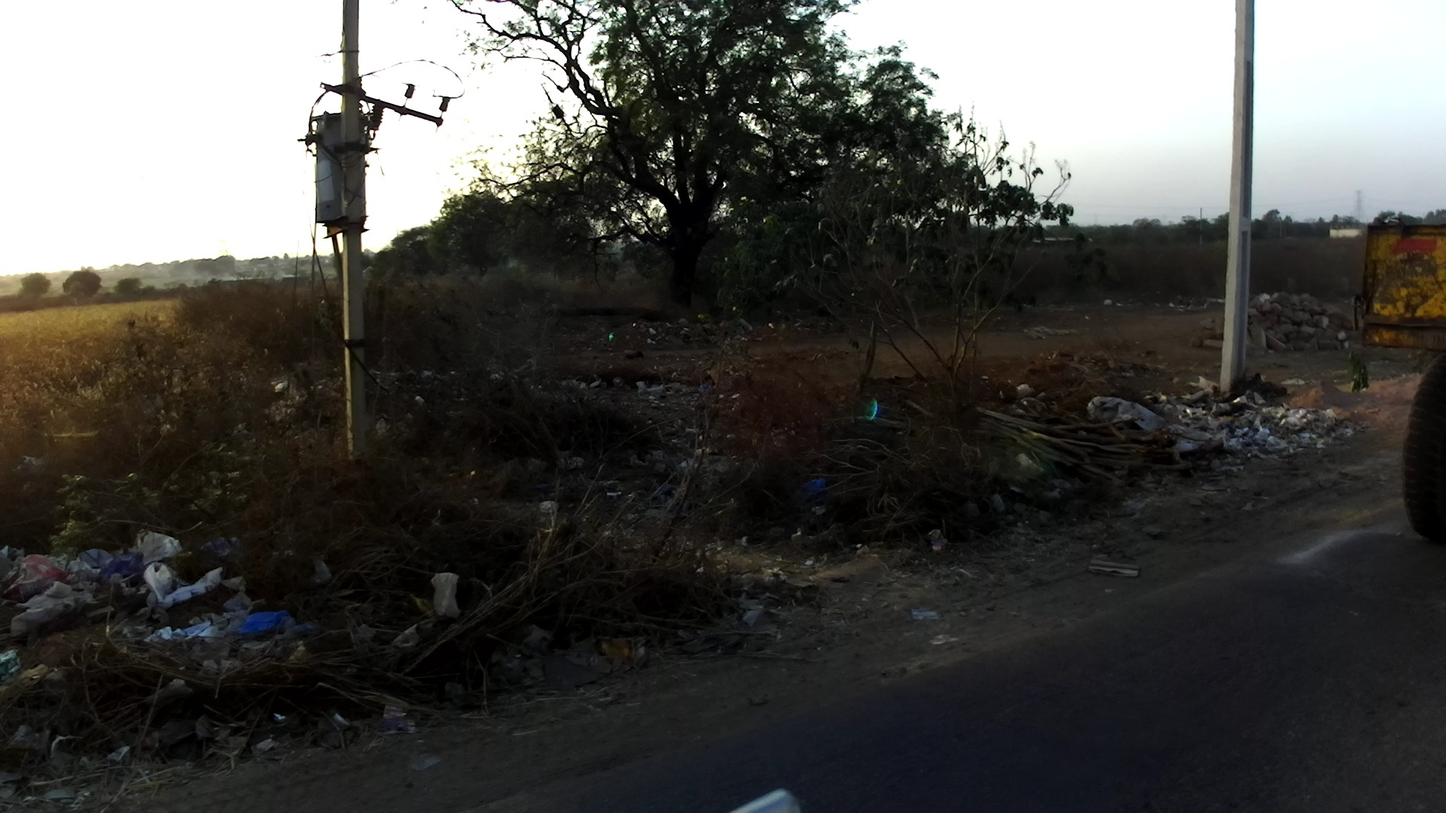vehicle fallback: (1347, 220, 1446, 546)
